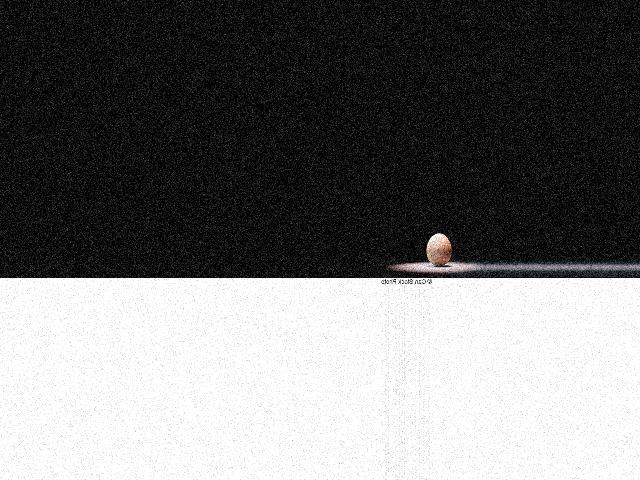egg: (425, 233, 451, 266)
